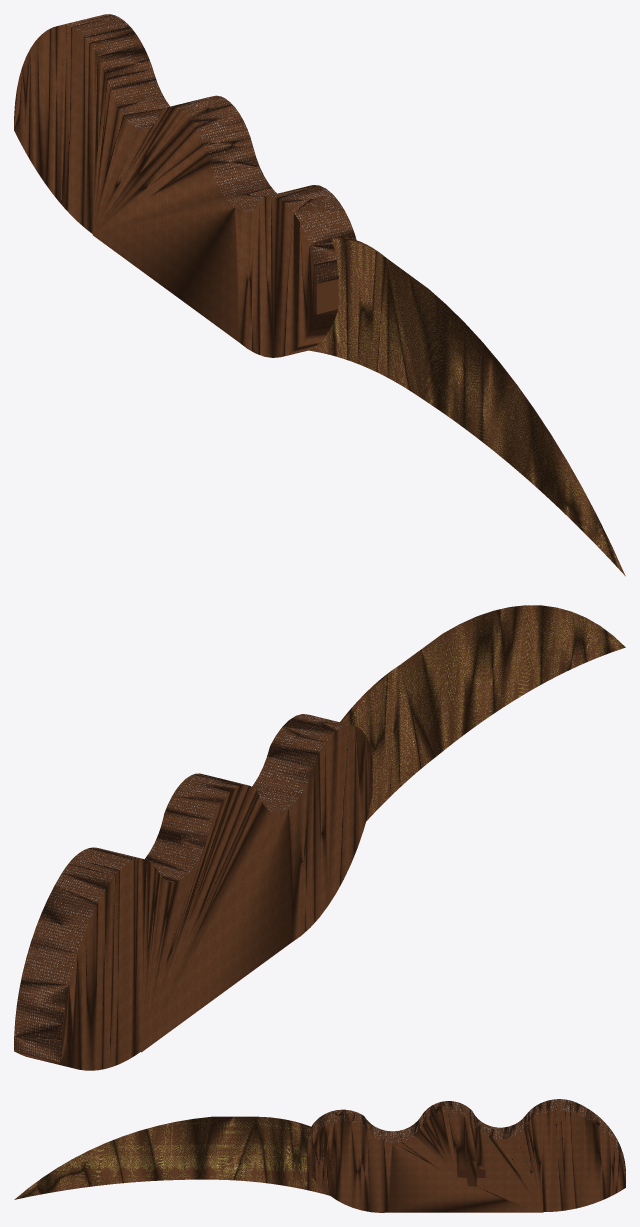
File: model_align.obj
The picture shows the model from 3 angles, top to bottom: view 1: azimuth 30°, elevation 25°; view 2: azimuth 150°, elevation 25°; view 3: azimuth 270°, elevation 25°; orthographic projection. The views are drawn at different scales.
Bounding box in the file's own units: 0.0108 × 0.044 × 0.2387.
